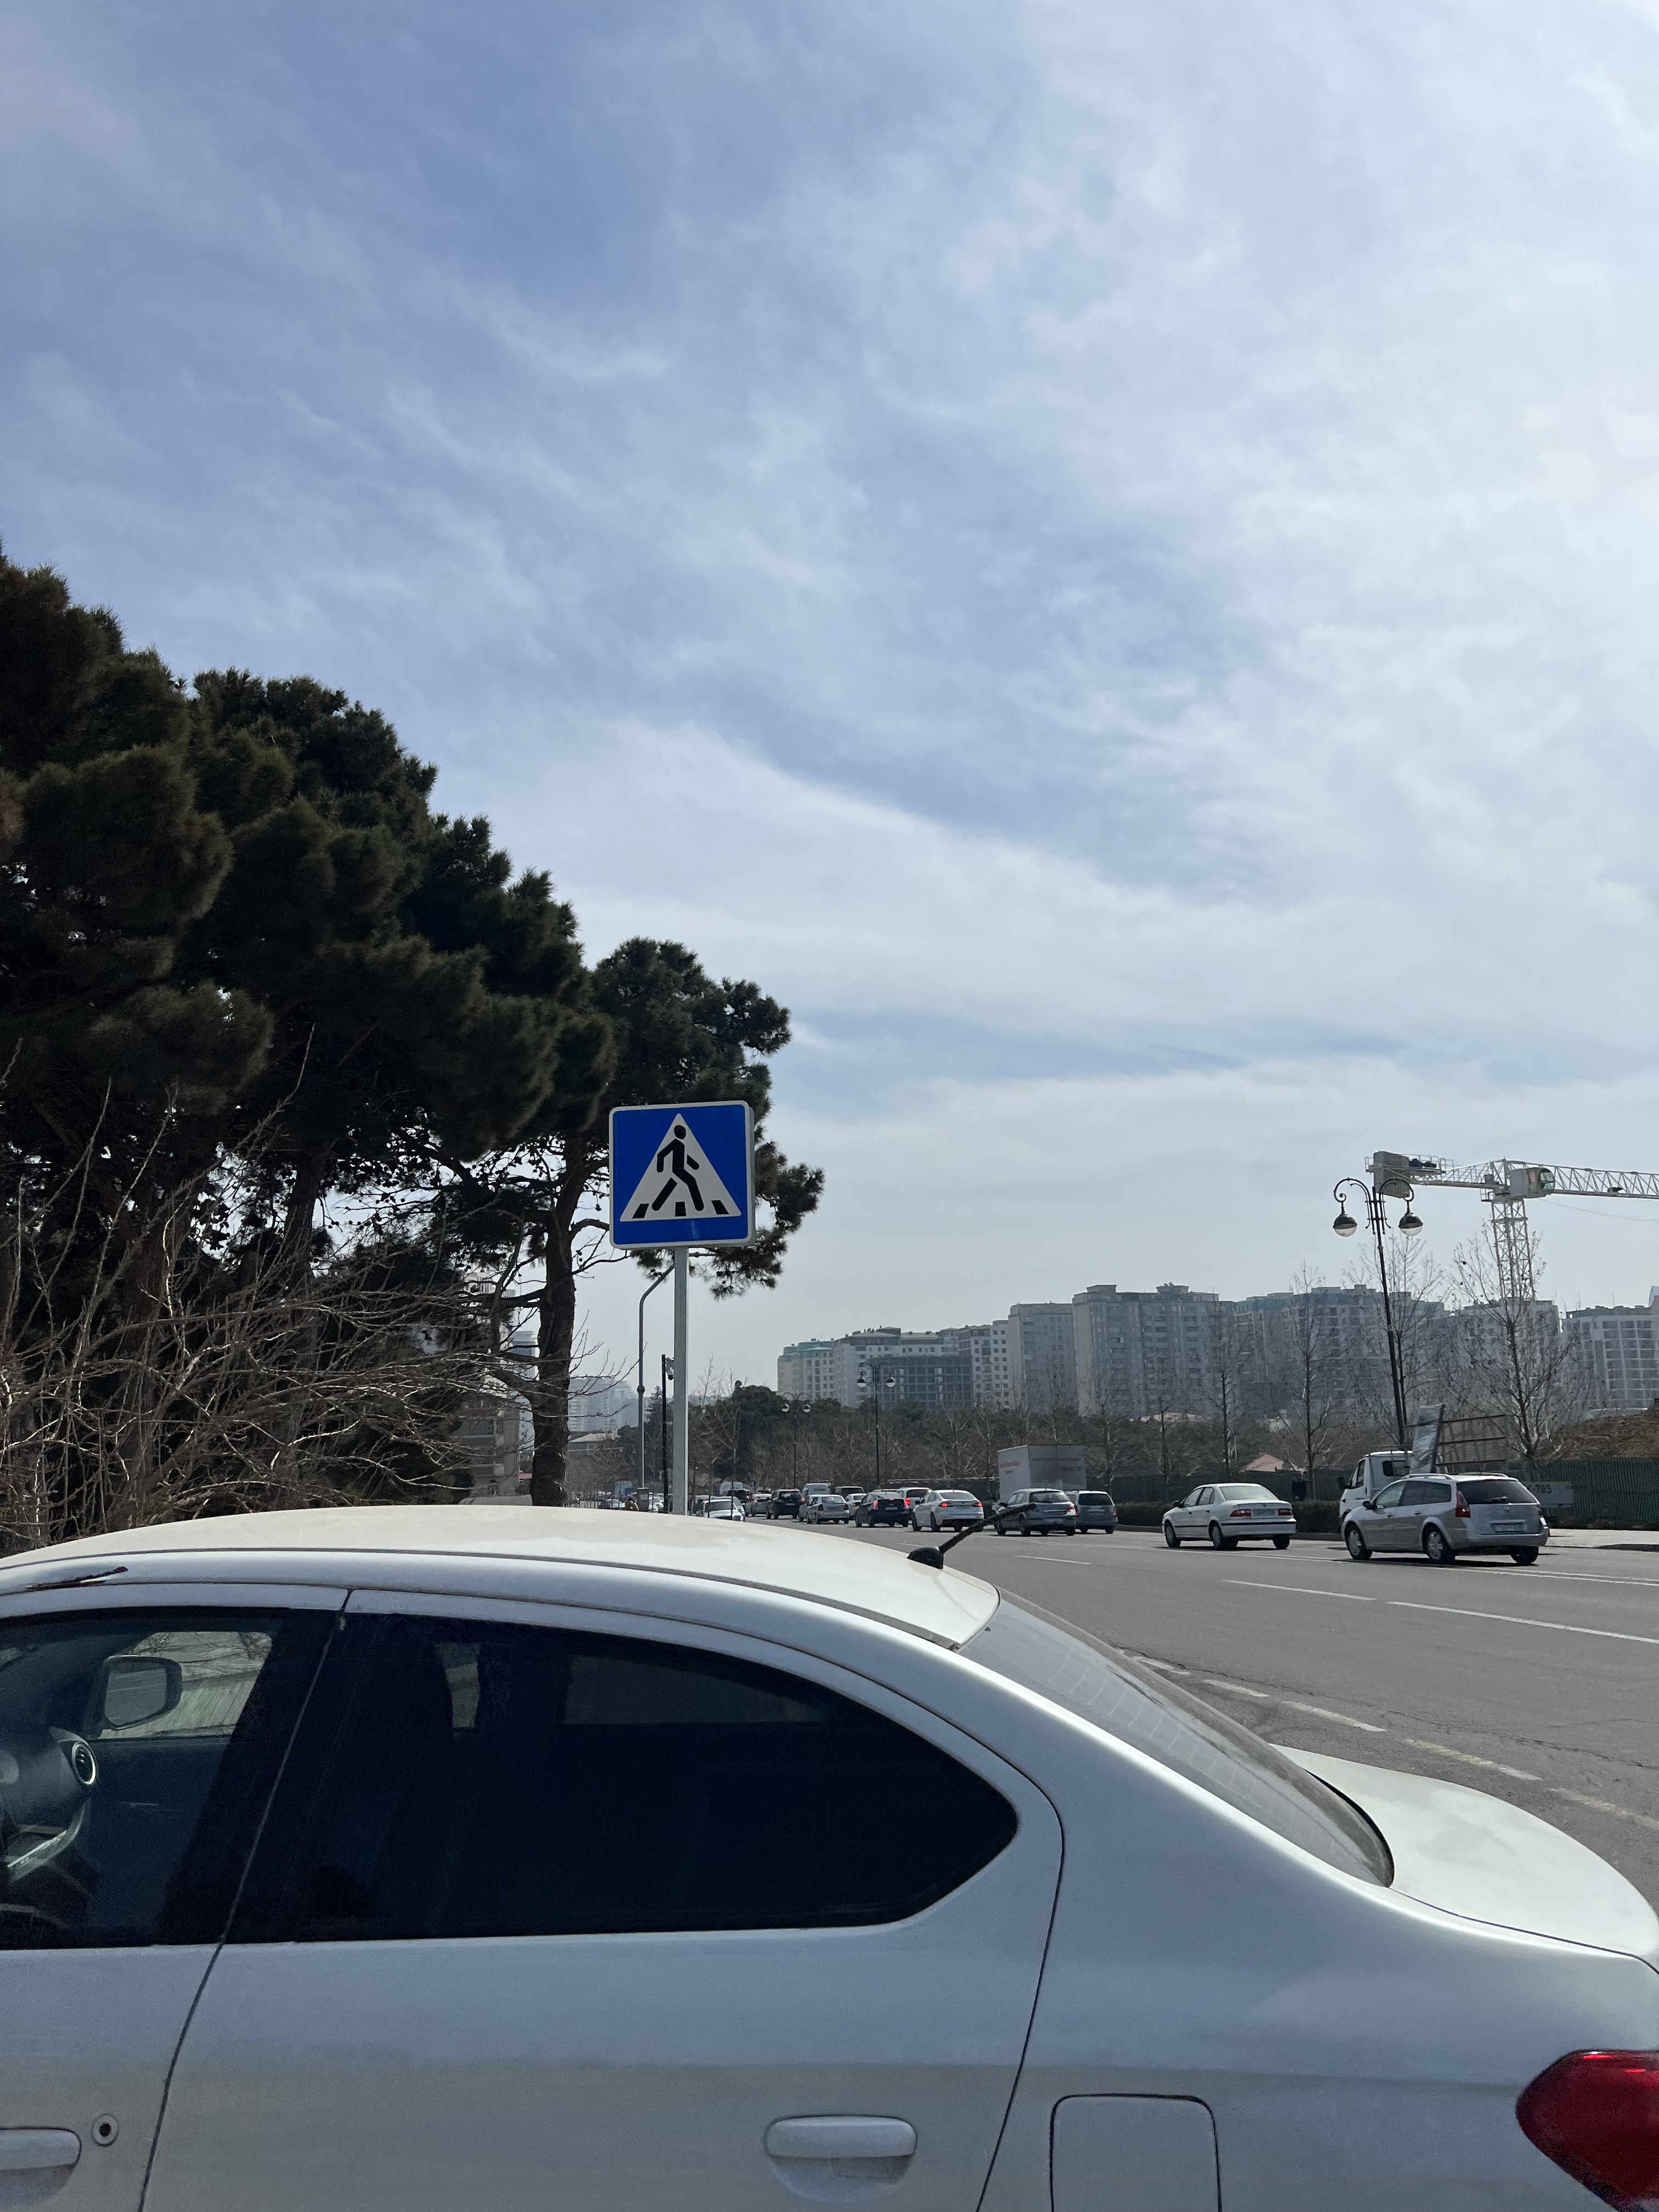Pedestrian Crossing: (608, 1101, 753, 1249)
